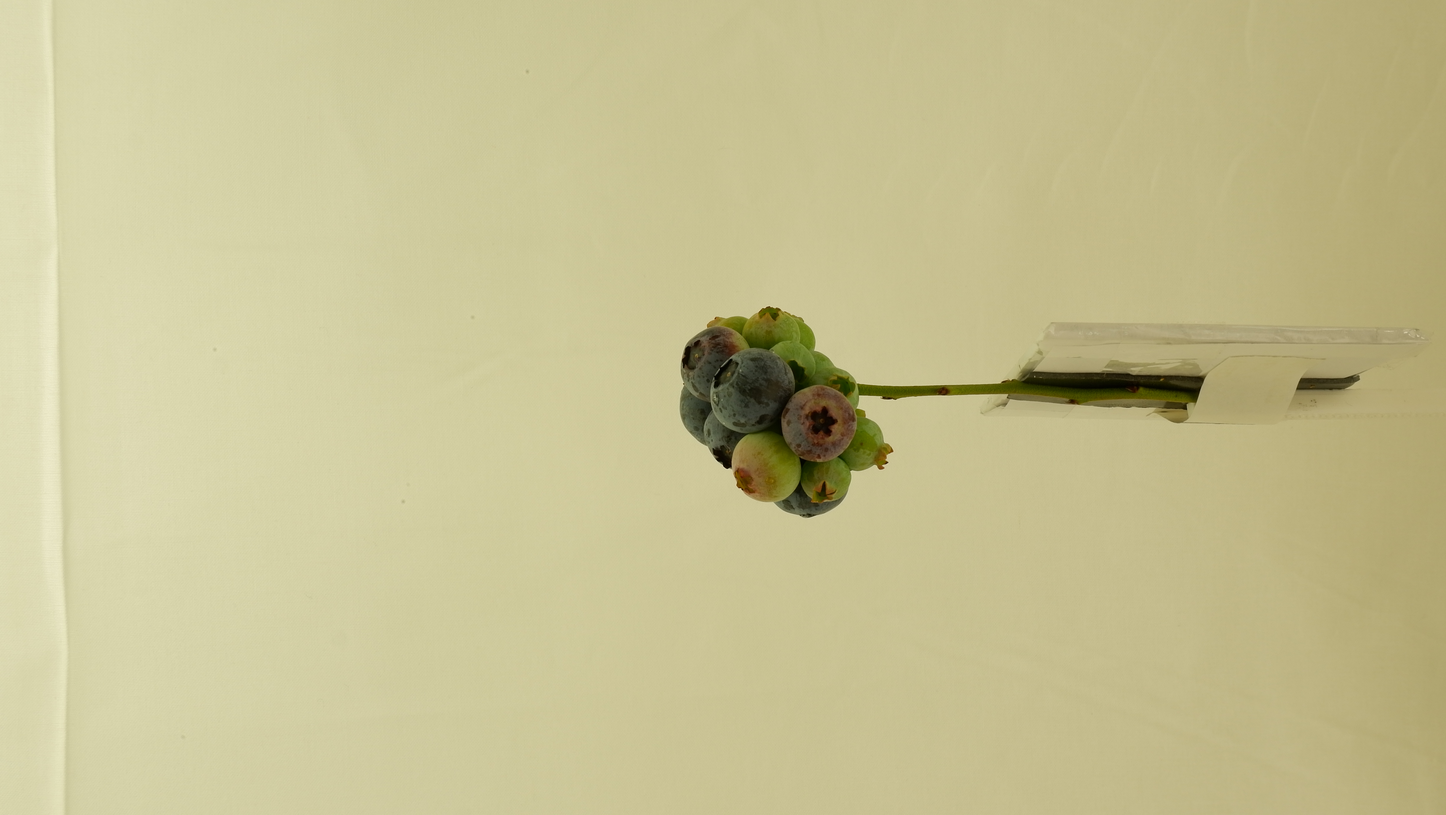Immature: (711, 349, 795, 434), (780, 385, 857, 462), (680, 326, 750, 401), (731, 430, 801, 503), (838, 416, 894, 472), (742, 307, 801, 351), (768, 340, 815, 392), (799, 457, 851, 503), (806, 367, 859, 411), (783, 311, 815, 350), (707, 315, 748, 336), (809, 350, 835, 376)
Mature: (775, 481, 847, 518), (703, 410, 747, 470), (680, 384, 713, 447)
